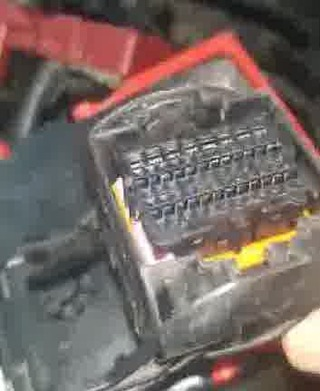connector: (84, 83, 320, 362)
